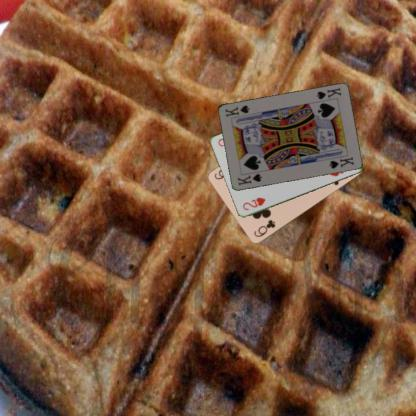2h: (240, 194, 267, 212)
6c: (251, 217, 277, 239)
Ks: (234, 171, 263, 187), (314, 85, 342, 101)
